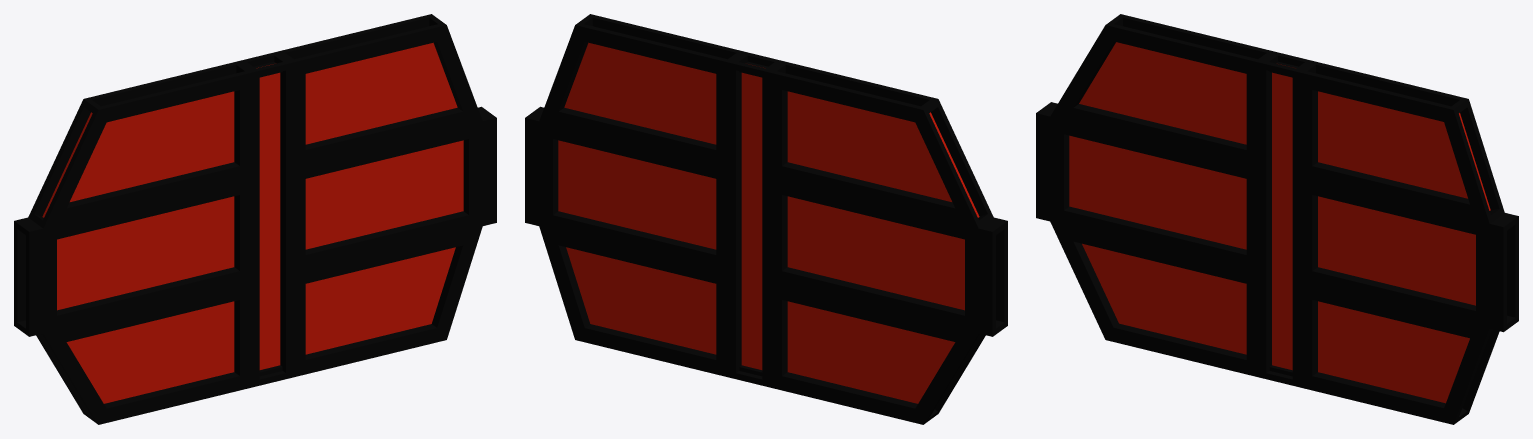
The picture shows the model from 3 angles, left to right: view 1: azimuth 30°, elevation 25°; view 2: azimuth 150°, elevation 25°; view 3: azimuth 330°, elevation 25°; orthographic projection.
Visible parts, largest first — view 1: Box010; view 2: Box010; view 3: Box010.
Boxes of the visible parts, bbox=[...] form: Box010: bbox=[14, 14, 496, 424]; Box010: bbox=[525, 14, 1007, 424]; Box010: bbox=[1036, 14, 1518, 424].
Size of the model in its own units: 207 by 133 by 11.61.
